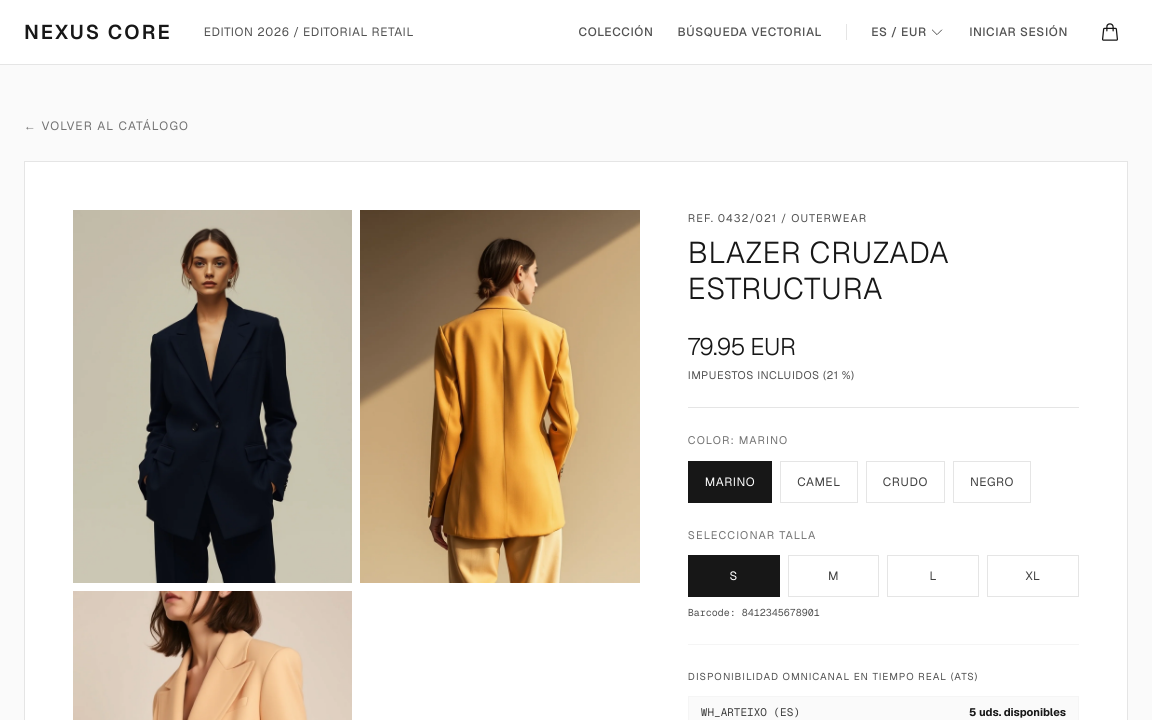
ProductDetailPage — color y cuidados (spec color-and-care) › V6 — cambiar de color cambia la galería a las fotos de ese color (supersede R8 de color-and-care)
This screenshot has width=1152, height=720.
Expected: the element with test id "product-color" is shown, [688,432,1079,502]
Note: WHEN — el usuario elige otro color
Click the button "Negro". click: (992, 482)
box: [953,460,1031,502]
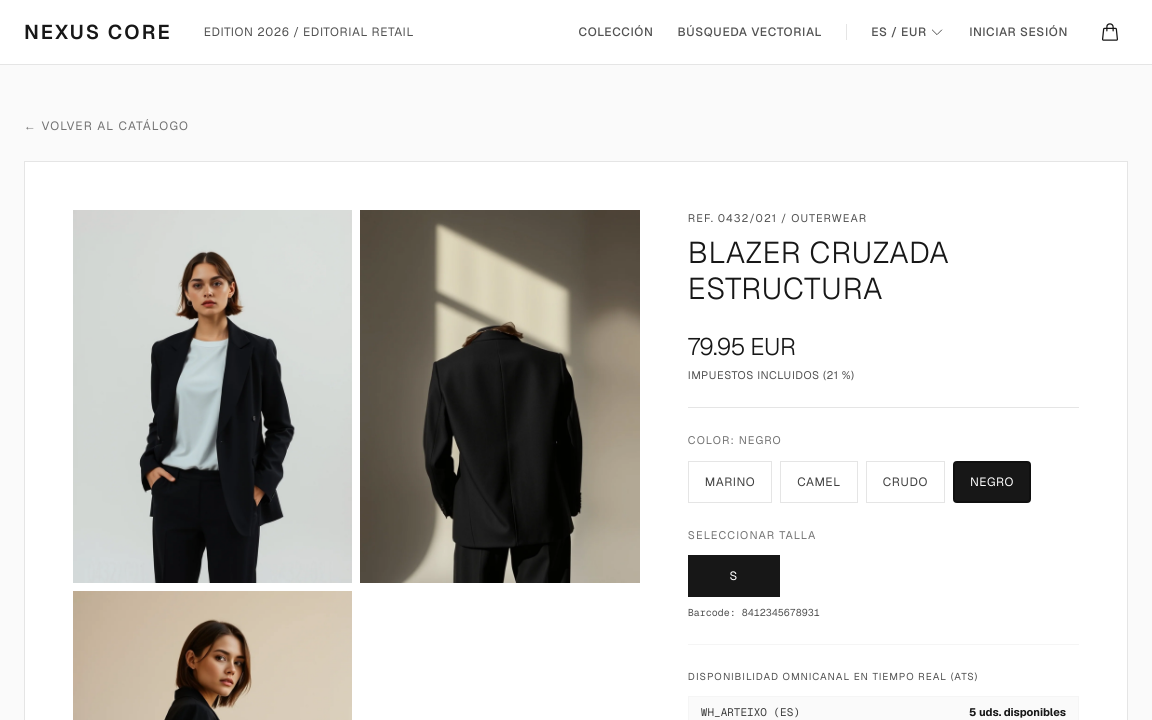
Result: the text "Color: Negro" is shown at [688,433,782,447]
